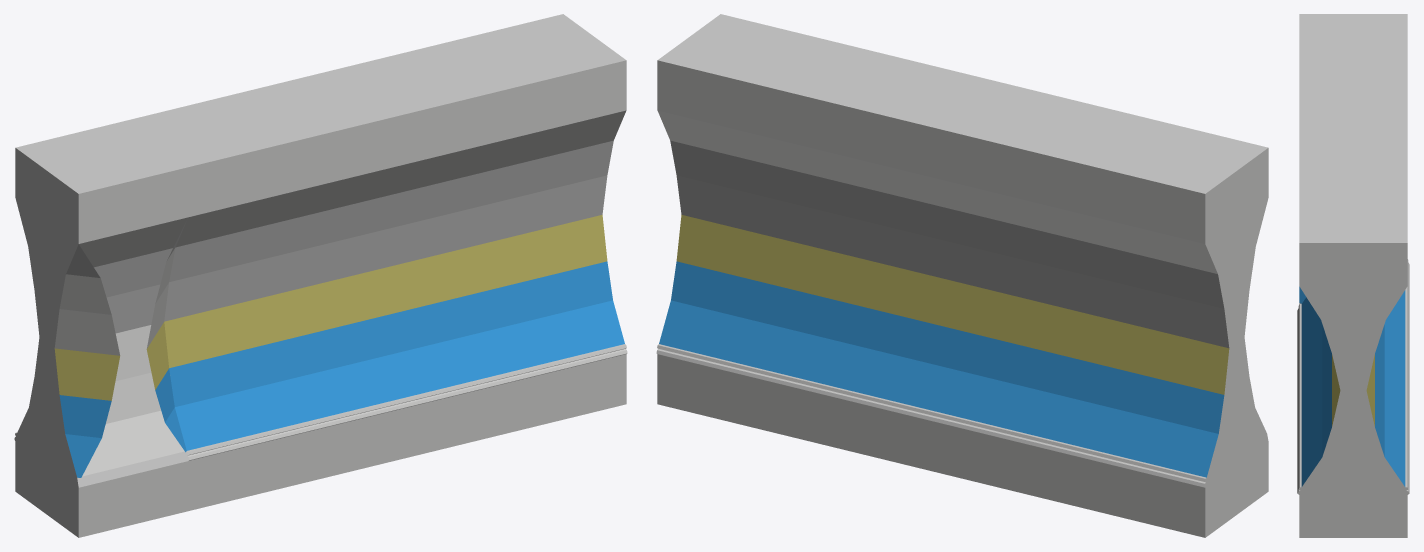
File: SM_Wall_Connector_CertoCerto.fbx
3 renders of one model, left to right at view 1: azimuth 30°, elevation 25°; view 2: azimuth 150°, elevation 25°; view 3: azimuth 270°, elevation 25°, orthographic. The views are drawn at different scales.
Parts seen in each view (by area): view 1: SM_Wall_DoubleSide.002; view 2: SM_Wall_DoubleSide.002; view 3: SM_Wall_DoubleSide.002.
Part boxes in pixels (<box>): SM_Wall_DoubleSide.002: <box>14,14,627,537</box>; SM_Wall_DoubleSide.002: <box>656,14,1268,537</box>; SM_Wall_DoubleSide.002: <box>1297,14,1409,537</box>.
Bounding box in the file's own units: 1000 × 600 × 207.
